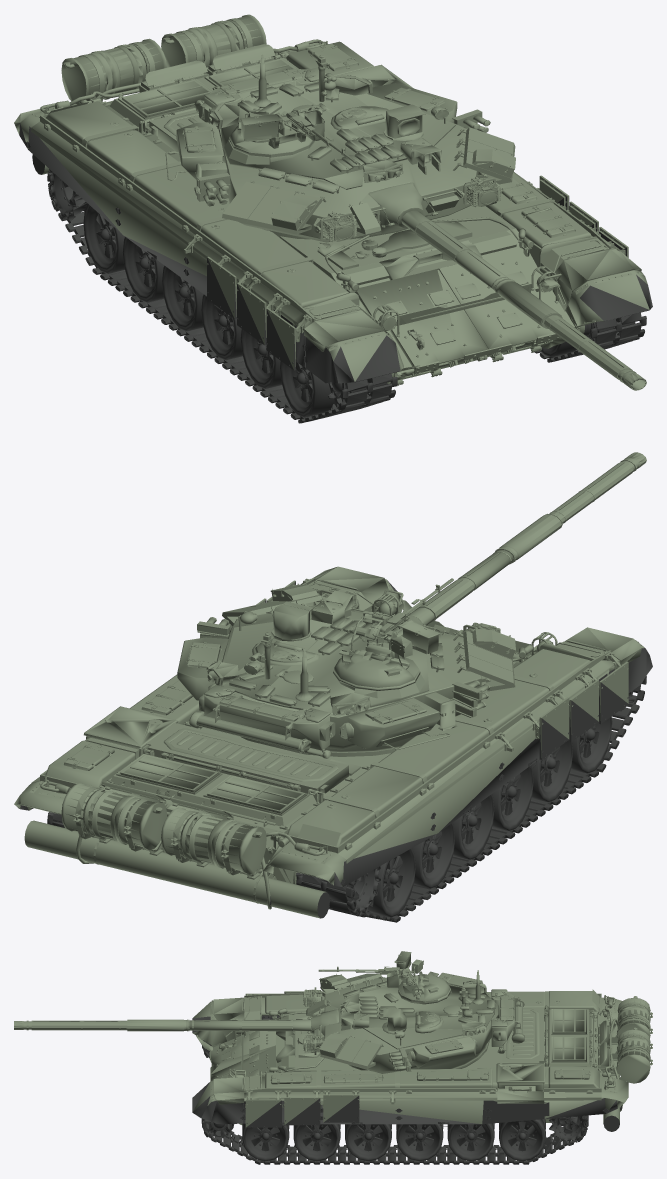
Rendered from t90a_xarchenko_variant.glb.
3 renders of one model, top to bottom at view 1: azimuth 30°, elevation 25°; view 2: azimuth 150°, elevation 25°; view 3: azimuth 270°, elevation 25°, orthographic. The views are drawn at different scales.
Parts seen in each view (by area): view 1: Hull, TurretMesh, tracks_running_gear, GunMesh; view 2: Hull, TurretMesh, tracks_running_gear, GunMesh; view 3: Hull, TurretMesh, tracks_running_gear, GunMesh.
Boxes of the visible parts, x1,y1,x2,y2 form: Hull: (14,14,649,385); TurretMesh: (149,55,515,262); tracks_running_gear: (19,123,652,423); GunMesh: (455,250,646,390); Hull: (14,566,644,918); TurretMesh: (105,577,515,788); tracks_running_gear: (16,580,652,922); GunMesh: (422,452,646,619); Hull: (192,989,652,1127); TurretMesh: (242,951,543,1081); tracks_running_gear: (192,992,621,1164); GunMesh: (14,1019,293,1031).
Bounding box in the file's own units: 3.65 × 2.22 × 9.2.
